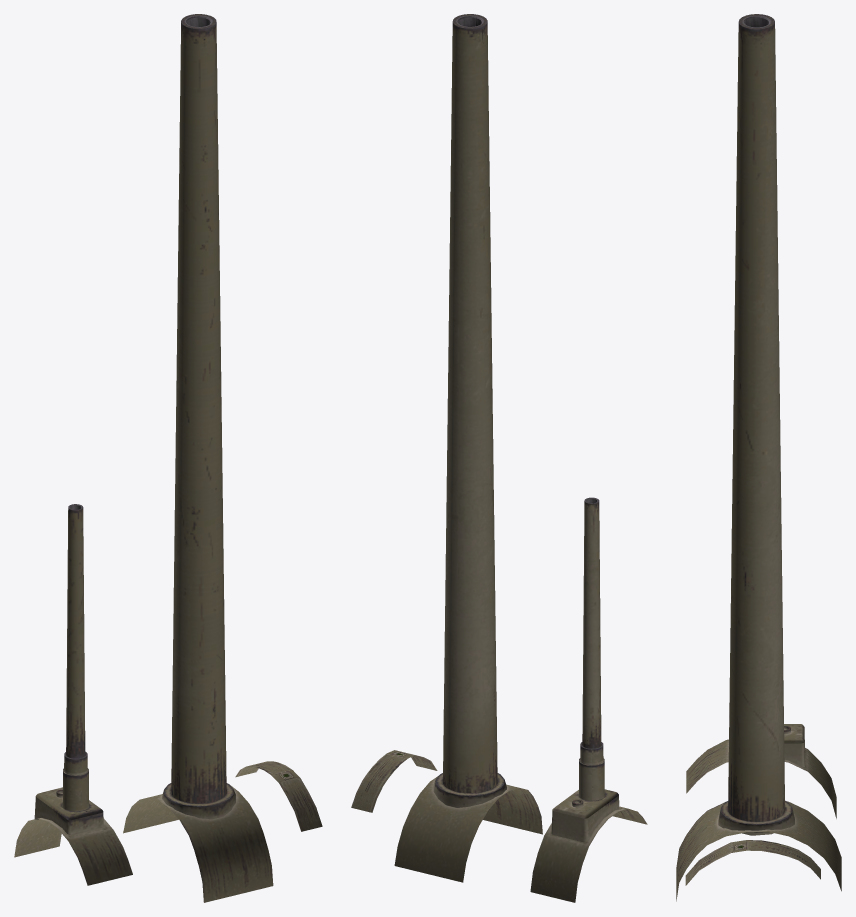
Rendered from Gun_02.glb.
3 renders of one model, left to right at view 1: azimuth 30°, elevation 25°; view 2: azimuth 150°, elevation 25°; view 3: azimuth 270°, elevation 25°, orthographic. The views are drawn at different scales.
Parts seen in each view (by area): view 1: set_0_group_0; view 2: set_0_group_0; view 3: set_0_group_0.
Part boxes in pixels (left/top/right/bottom): set_0_group_0: left=14, top=14, right=322, bottom=902; set_0_group_0: left=351, top=14, right=647, bottom=902; set_0_group_0: left=676, top=14, right=841, bottom=901.
Size of the model in its own units: 0.869 by 2.99 by 0.5184.
1 material, 1 textured.
